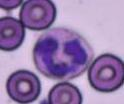N: (33, 27, 94, 80)
